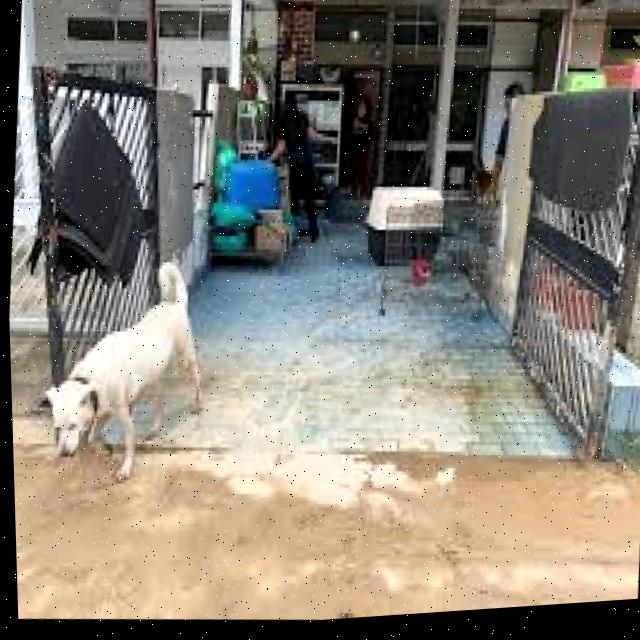civilian: (260, 87, 335, 258), (336, 90, 382, 198)
dog: (24, 244, 231, 500)
